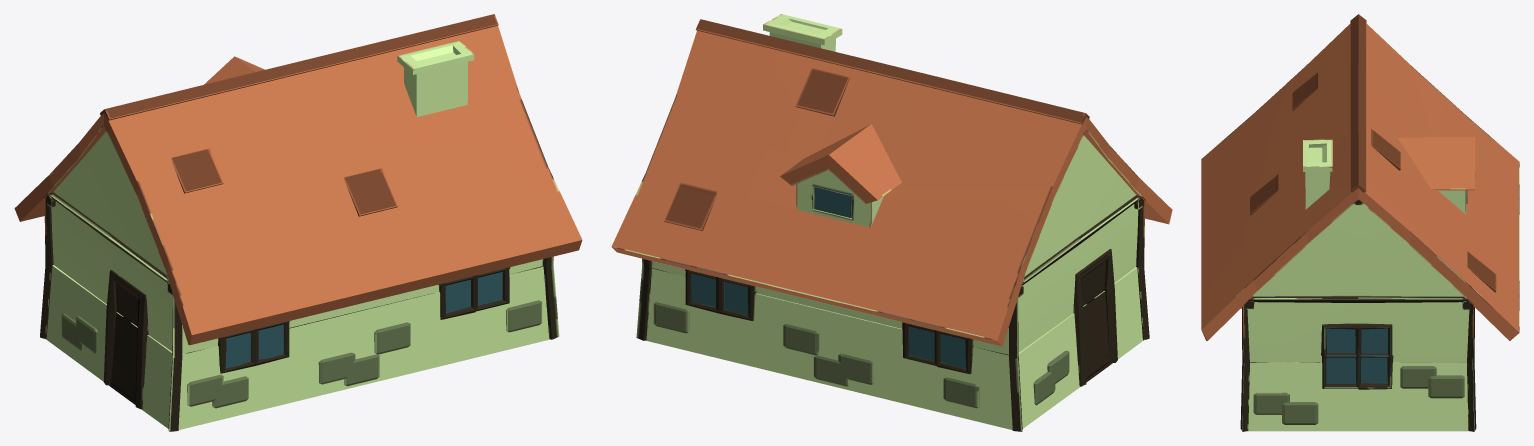
The model's file is House_4.fbx.
3 views of the same model, side by side, from view 1: azimuth 30°, elevation 25°; view 2: azimuth 150°, elevation 25°; view 3: azimuth 270°, elevation 25° (orthographic). The views are drawn at different scales.
Parts seen in each view (by area): view 1: EvRotten.002; view 2: EvRotten.002; view 3: EvRotten.002.
Boxes of the visible parts, x1,y1,x2,y2 form: EvRotten.002: [14, 14, 582, 431]; EvRotten.002: [611, 14, 1172, 431]; EvRotten.002: [1201, 14, 1519, 431].
Size of the model in its own units: 356 by 240 by 280.
1 material, 1 textured.
